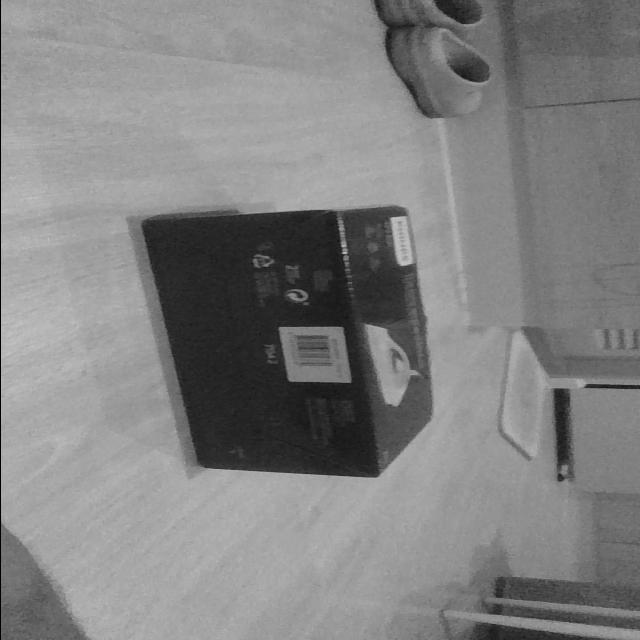IRON: (138, 202, 438, 480)
